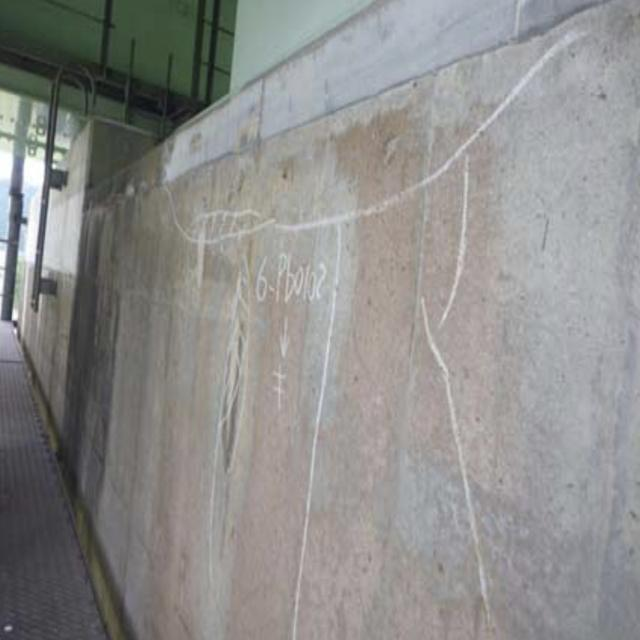freelime: (200, 263, 250, 480)
